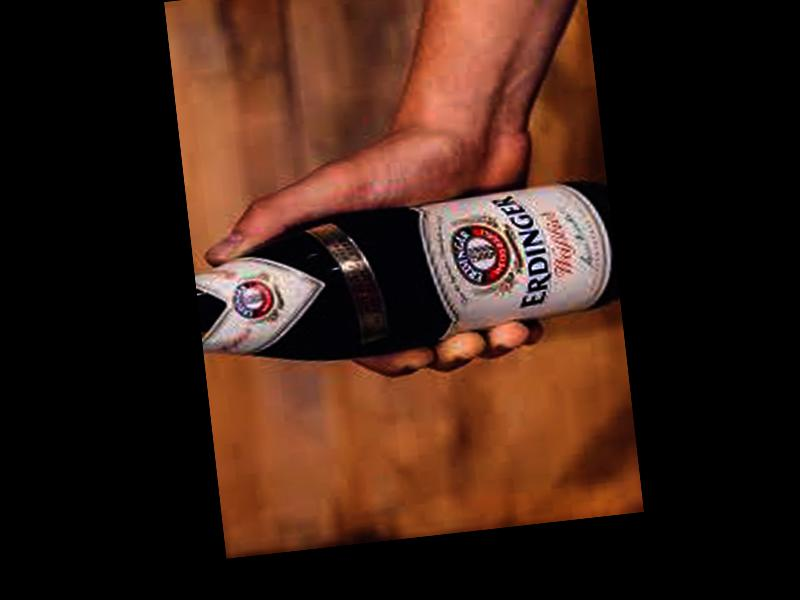Beer: (193, 175, 623, 373)
